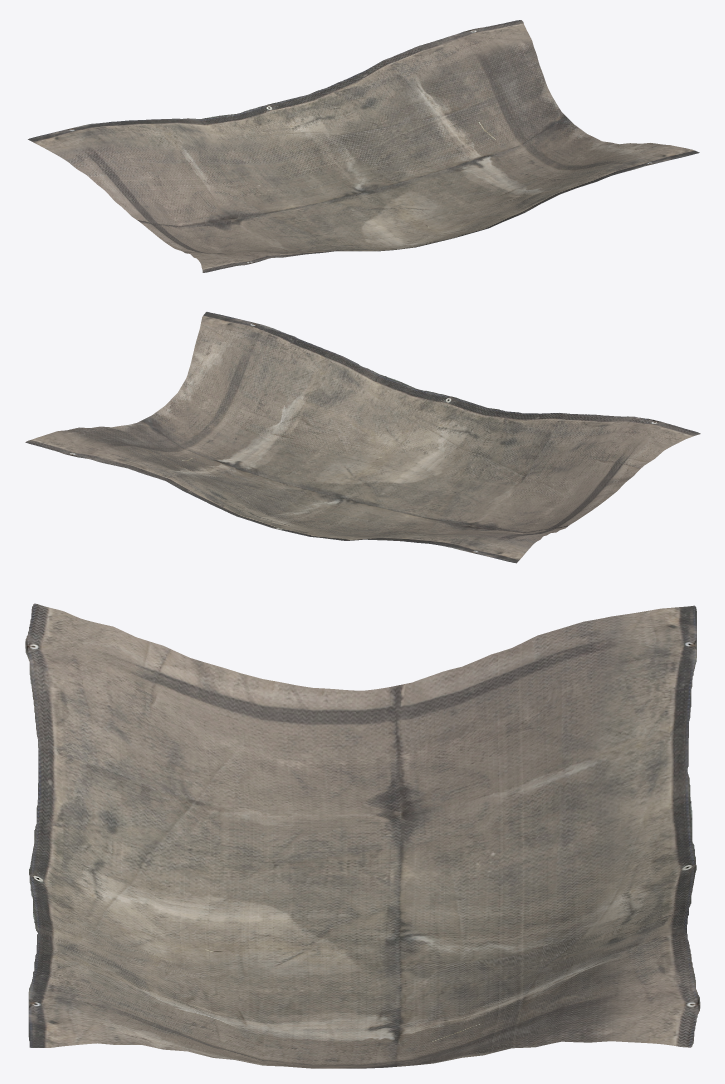
Rendered from Cloth3.fbx.
3 renders of one model, top to bottom at view 1: azimuth 30°, elevation 25°; view 2: azimuth 150°, elevation 25°; view 3: azimuth 270°, elevation 25°, orthographic. The views are drawn at different scales.
Parts seen in each view (by area): view 1: Cloth.009; view 2: Cloth.009; view 3: Cloth.009.
Boxes of the visible parts, x1=… form: Cloth.009: x1=28, y1=20, x2=699, y2=272; Cloth.009: x1=25, y1=312, x2=700, y2=563; Cloth.009: x1=25, y1=603, x2=700, y2=1068.
Bounding box in the file's own units: 357 × 38.54 × 231.
